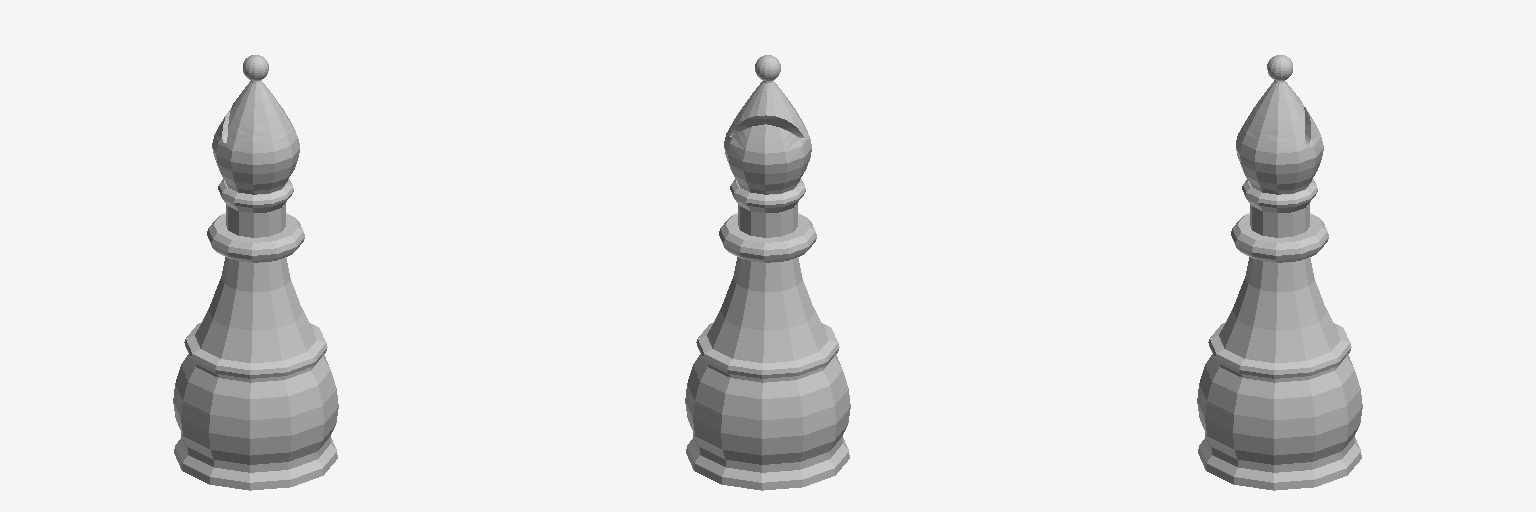
The picture shows the model from 3 angles: view 1: azimuth 30°, elevation 25°; view 2: azimuth 150°, elevation 25°; view 3: azimuth 270°, elevation 25°; orthographic projection.
Visible parts, largest first — view 1: __Bishop; view 2: __Bishop; view 3: __Bishop.
Part boxes in pixels (x1,y1,x2,y2): __Bishop: (173, 55, 338, 490); __Bishop: (685, 55, 850, 490); __Bishop: (1197, 55, 1362, 490).
Bounding box in the file's own units: 2.6 × 6.94 × 2.6.